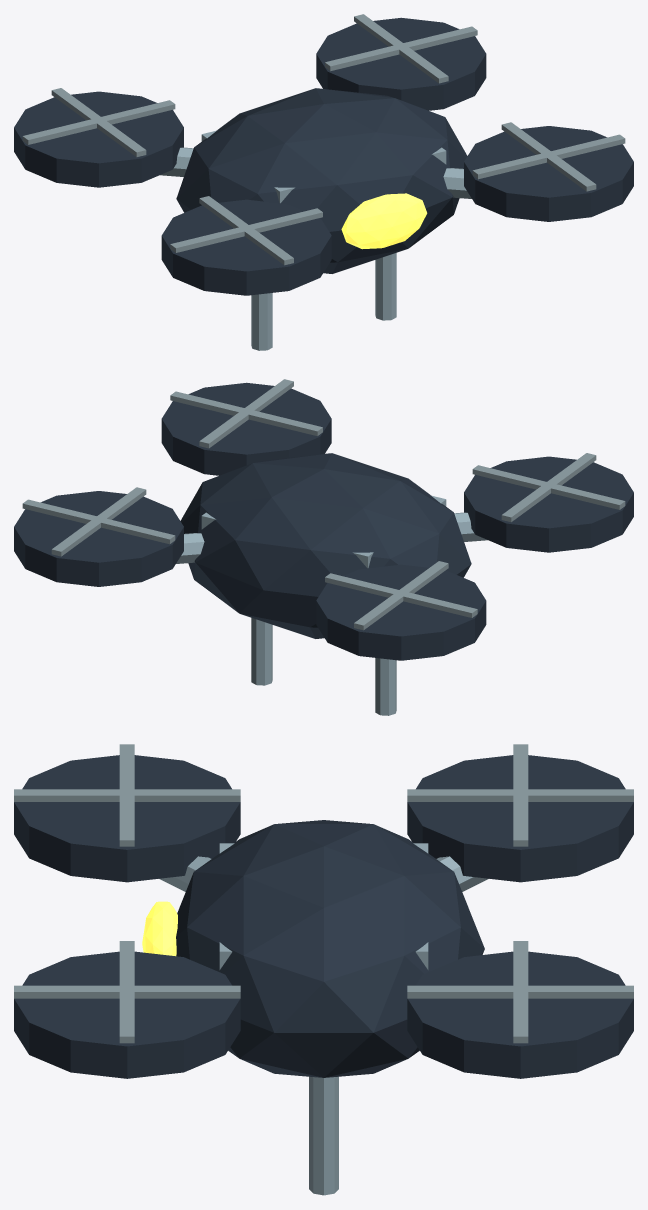
Rendered from Drone.fbx.
The picture shows the model from 3 angles, top to bottom: view 1: azimuth 30°, elevation 25°; view 2: azimuth 150°, elevation 25°; view 3: azimuth 270°, elevation 25°; orthographic projection. The views are drawn at different scales.
Visible parts, largest first — view 1: Drone_RenderMesh; view 2: Drone_RenderMesh; view 3: Drone_RenderMesh.
Boxes of the visible parts, <box> form: Drone_RenderMesh: <box>14,14,633,350</box>; Drone_RenderMesh: <box>14,379,633,715</box>; Drone_RenderMesh: <box>14,744,633,1195</box>.
Size of the model in its own units: 1.16 by 0.56 by 1.04.
